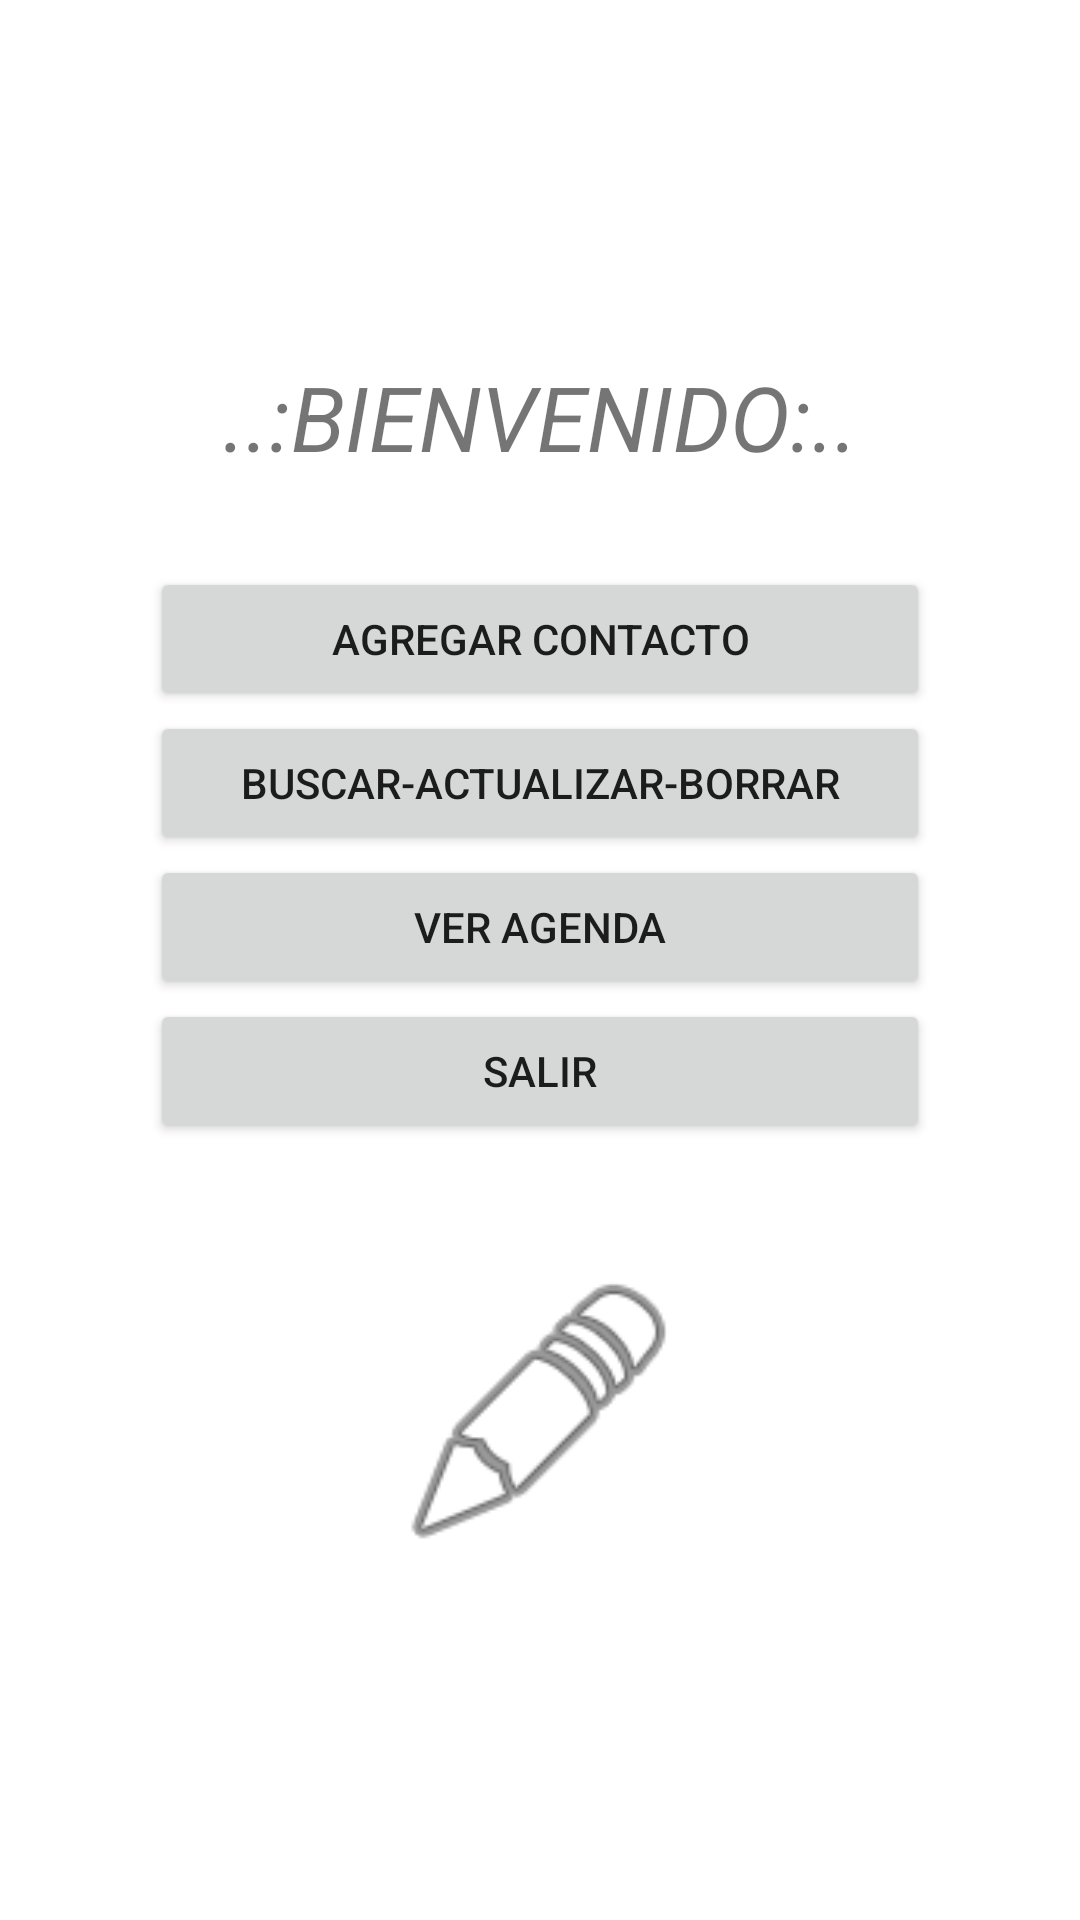

Screen size 1080w x 1920h. Icon name, then its center in pixels as point (x, y):
edit: point (539, 1411)
